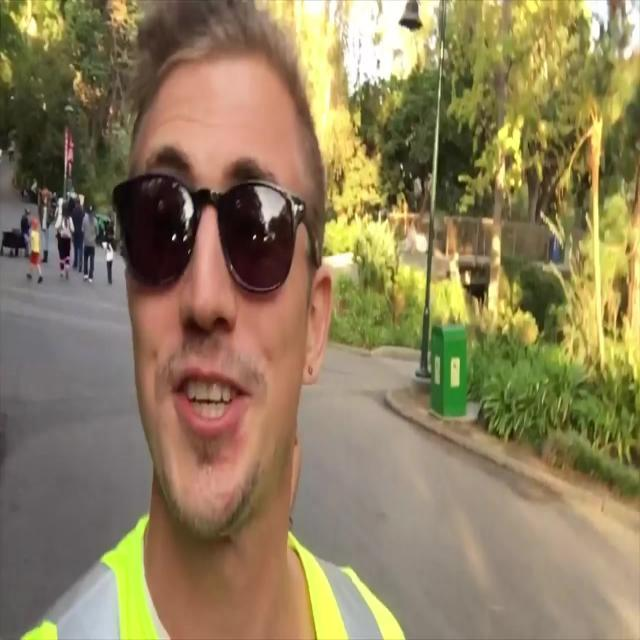reflective_jacket: (23, 519, 409, 639)
